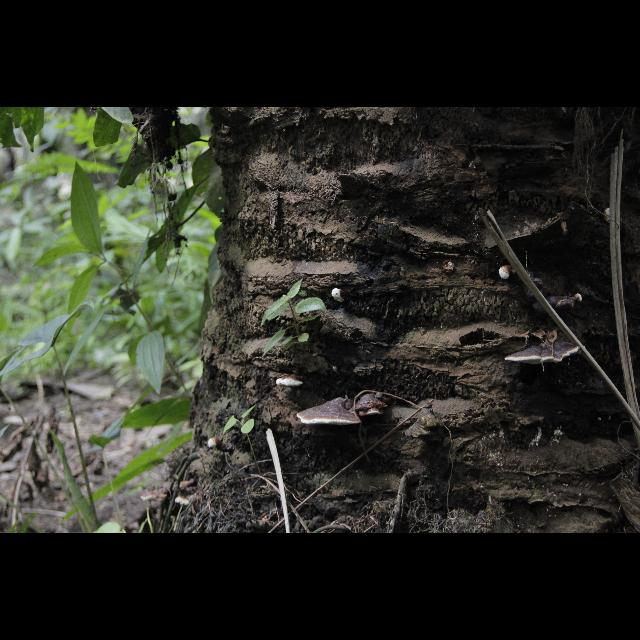ganoderma: (513, 270, 575, 316), (506, 341, 582, 366), (298, 398, 363, 427), (356, 394, 389, 417), (141, 489, 169, 504), (176, 488, 196, 507), (277, 376, 305, 388)
primordium: (332, 289, 347, 304), (500, 266, 512, 281), (209, 440, 221, 451), (605, 208, 612, 224), (575, 294, 583, 305)
